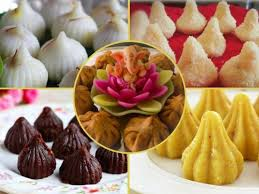modak: (1, 43, 53, 93), (44, 32, 87, 77), (53, 2, 100, 43), (1, 20, 43, 58), (3, 3, 49, 36)
